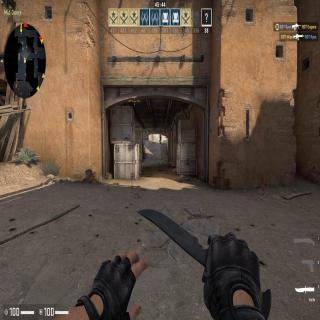CT-Body: (159, 134, 162, 144)
CT-Head: (159, 134, 161, 136)
